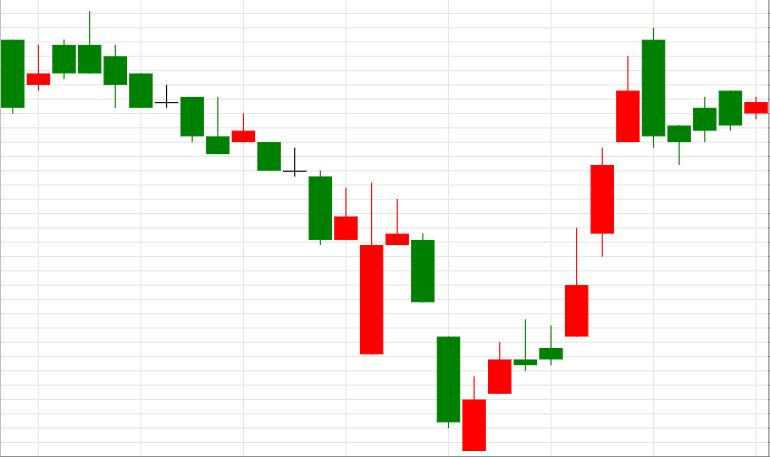three_white_soldiers_rise: (412, 56, 639, 452)
